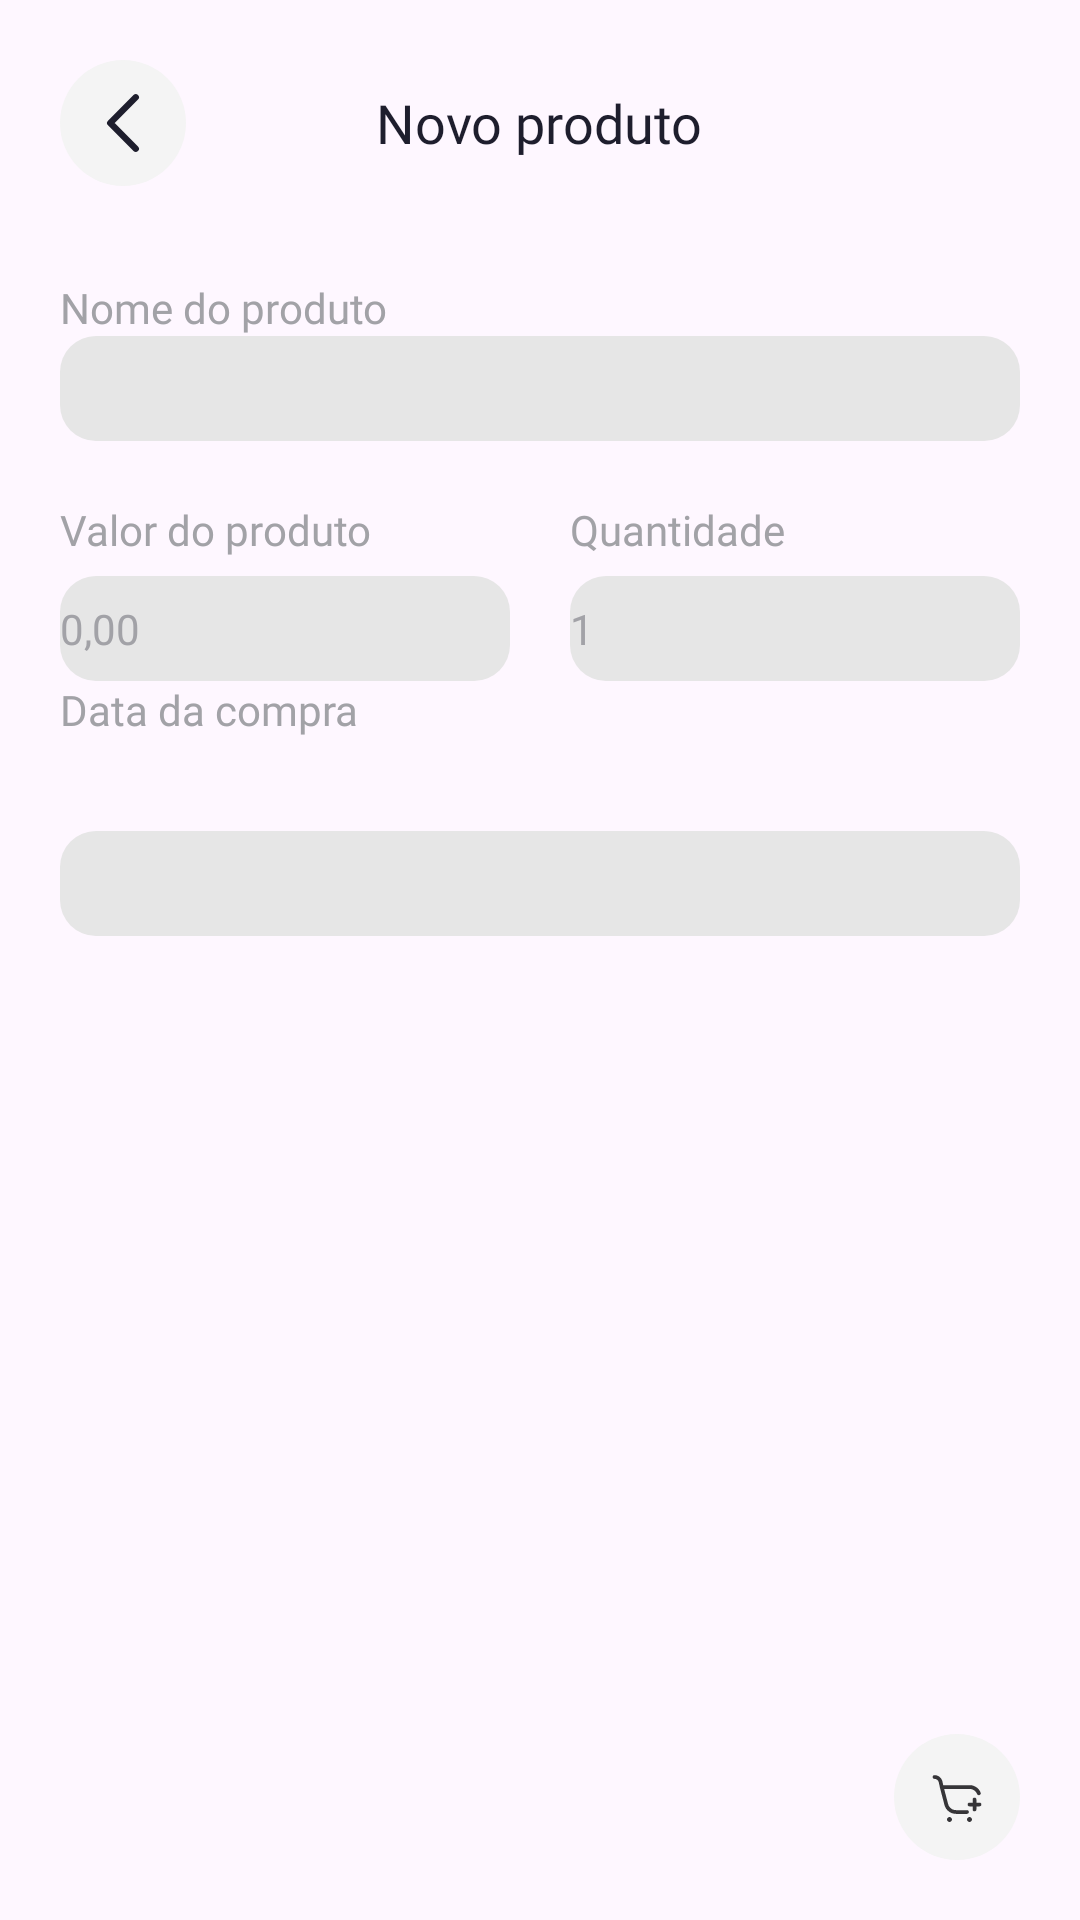

Icons on this 1080w x 1920h Android screen, each with the point to tap as point (x, y):
arrow left: point (123, 123)
cart add: point (957, 1798)
